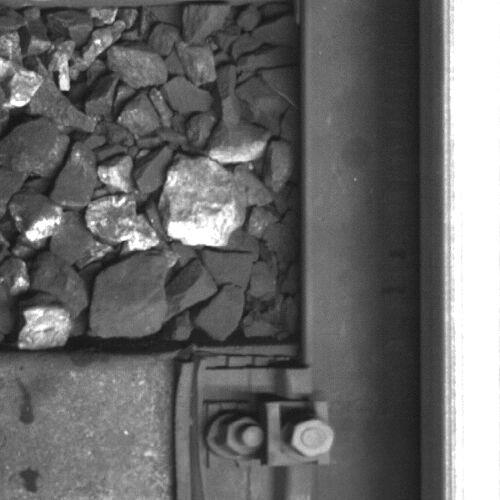kb: (197, 369, 335, 500)
nut: (284, 412, 337, 463), (219, 414, 268, 457)
rail: (443, 1, 500, 500)
tie_concr: (1, 353, 301, 500)
